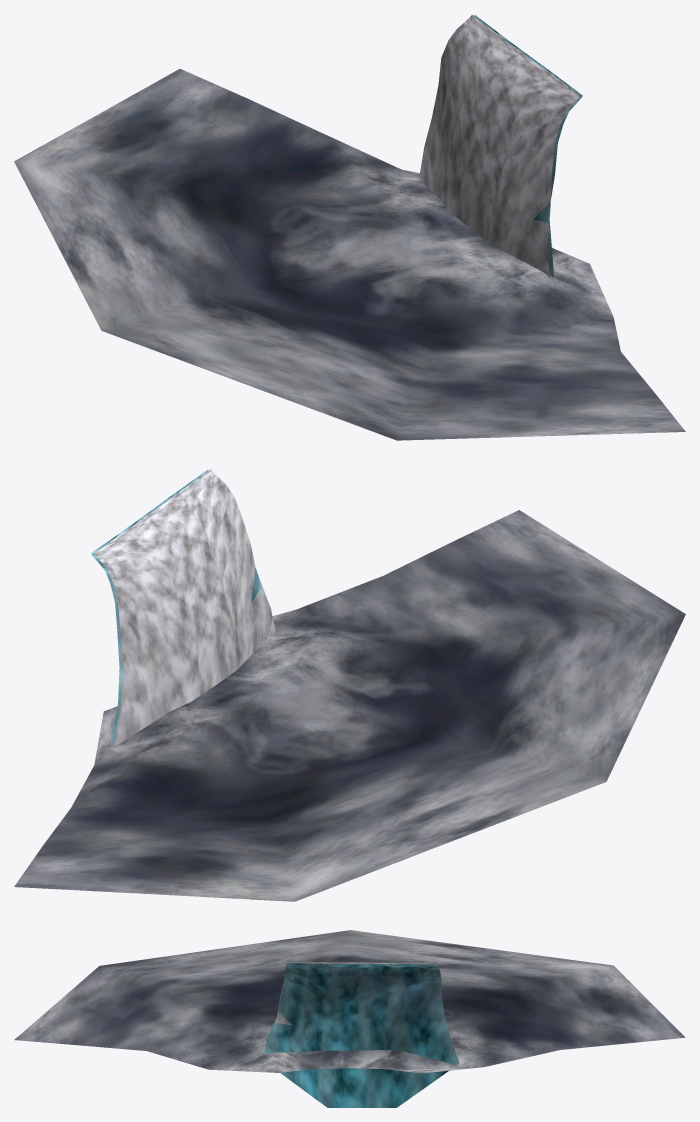
The model's file is EKH_THRONE_PS_TH_WATERFALLS484736.fbx.
The picture shows the model from 3 angles, top to bottom: view 1: azimuth 30°, elevation 25°; view 2: azimuth 150°, elevation 25°; view 3: azimuth 270°, elevation 25°; orthographic projection. The views are drawn at different scales.
Visible parts, largest first — view 1: EKH_THRONE_PS_TH_WATERFALLS484736; view 2: EKH_THRONE_PS_TH_WATERFALLS484736; view 3: EKH_THRONE_PS_TH_WATERFALLS484736.
Part boxes in pixels (left/top/right/bottom): EKH_THRONE_PS_TH_WATERFALLS484736: left=14, top=14, right=685, bottom=440; EKH_THRONE_PS_TH_WATERFALLS484736: left=14, top=469, right=685, bottom=901; EKH_THRONE_PS_TH_WATERFALLS484736: left=14, top=930, right=685, bottom=1107.
Bounding box in the file's own units: 91330 × 48418 × 180385.
3 materials, 3 textured.
